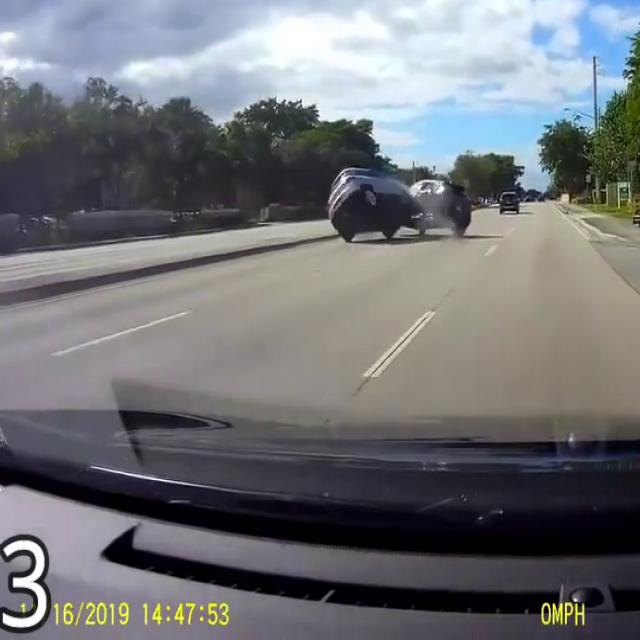accident: (308, 159, 471, 245)
